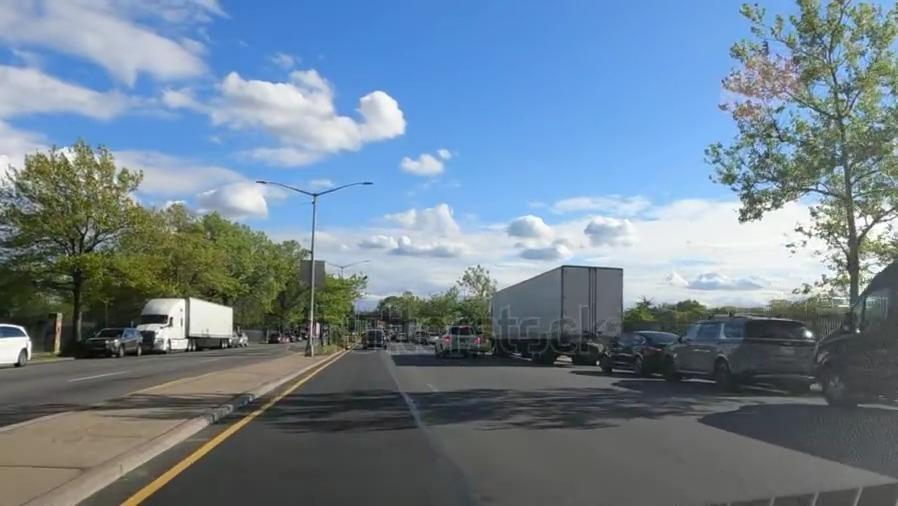car: (667, 317, 814, 387), (603, 330, 668, 370), (85, 326, 139, 354), (0, 320, 30, 368), (435, 326, 479, 355), (363, 330, 385, 350), (230, 330, 239, 346), (239, 331, 248, 347)
truck: (491, 266, 620, 362), (146, 296, 234, 351)
van: (809, 260, 898, 402)
